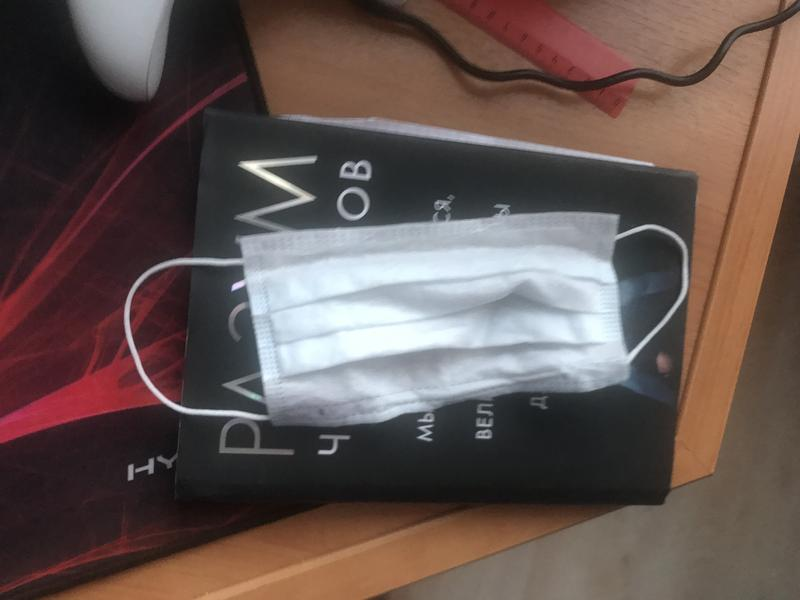medical_mask: (121, 223, 691, 416)
